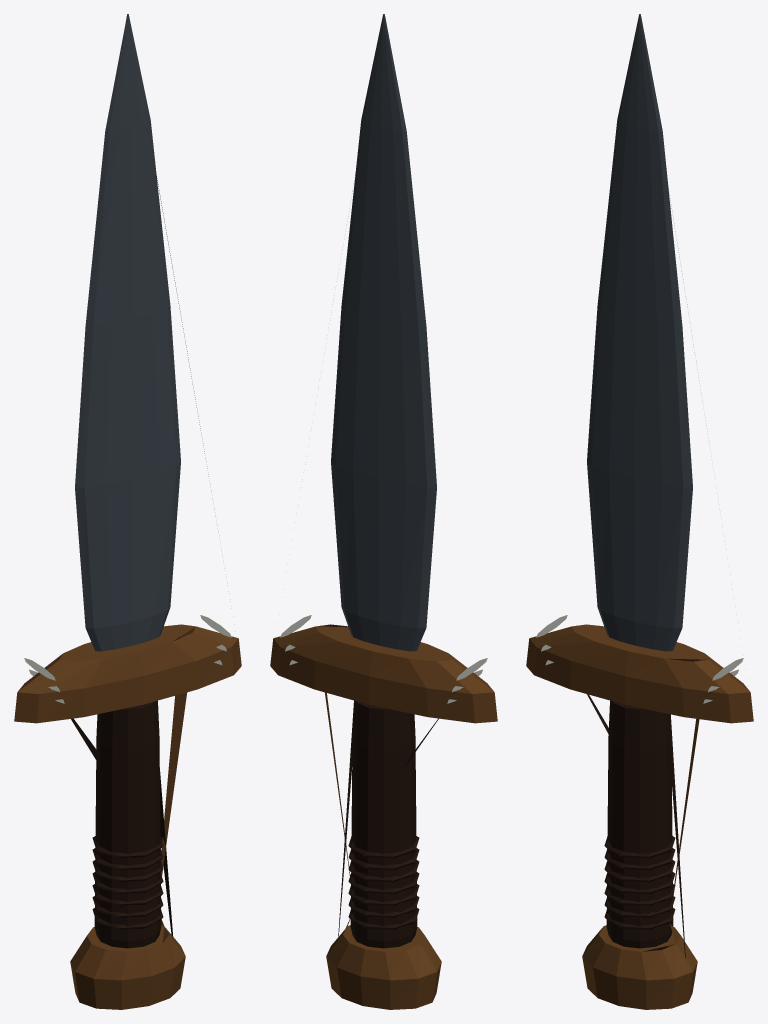
3 views of the same model, side by side, from view 1: azimuth 30°, elevation 25°; view 2: azimuth 150°, elevation 25°; view 3: azimuth 330°, elevation 25° (orthographic).
Parts seen in each view (by area): view 1: VeilRitualDagger; view 2: VeilRitualDagger; view 3: VeilRitualDagger.
Part boxes in pixels (<box>): VeilRitualDagger: <box>14,14,241,1009</box>; VeilRitualDagger: <box>270,14,497,1009</box>; VeilRitualDagger: <box>526,14,753,1009</box>.
Bounding box in the file's own units: 0.15 × 0.615 × 0.054.
